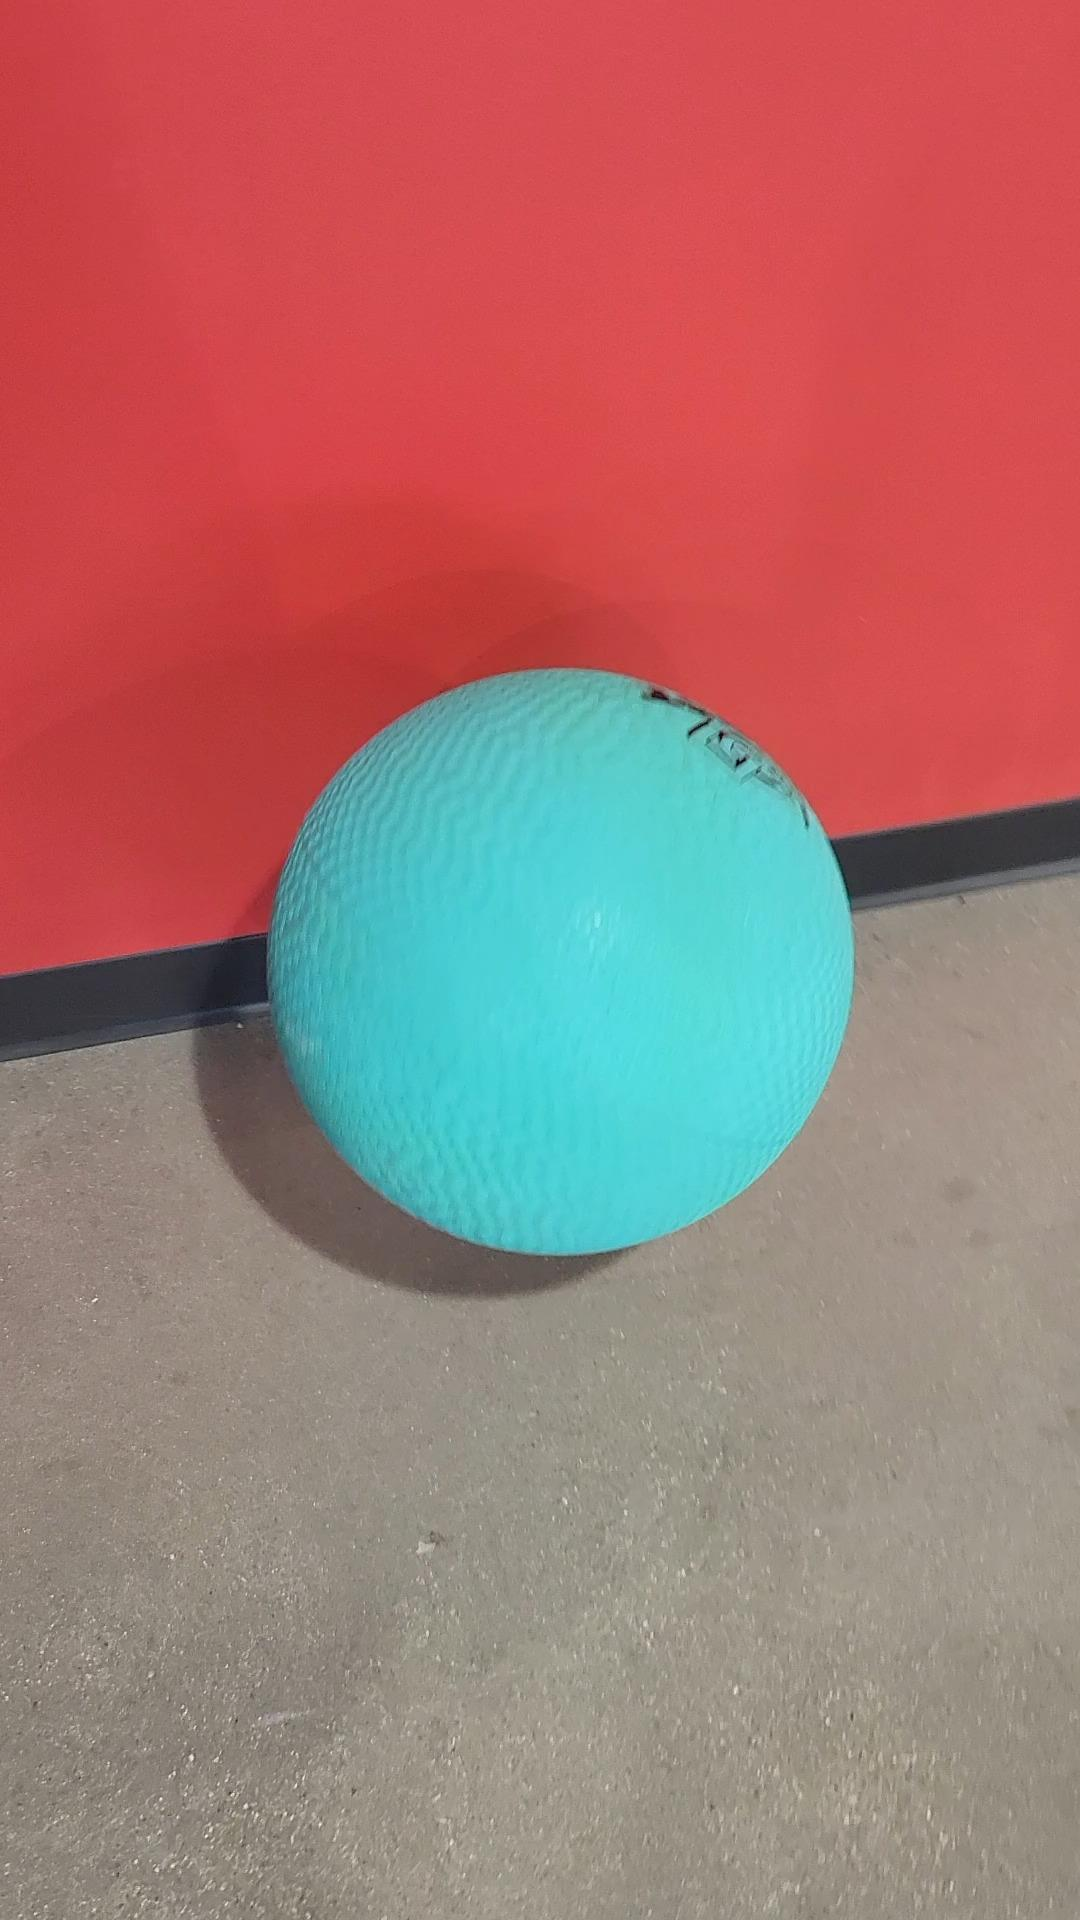algae: (266, 666, 858, 1245)
